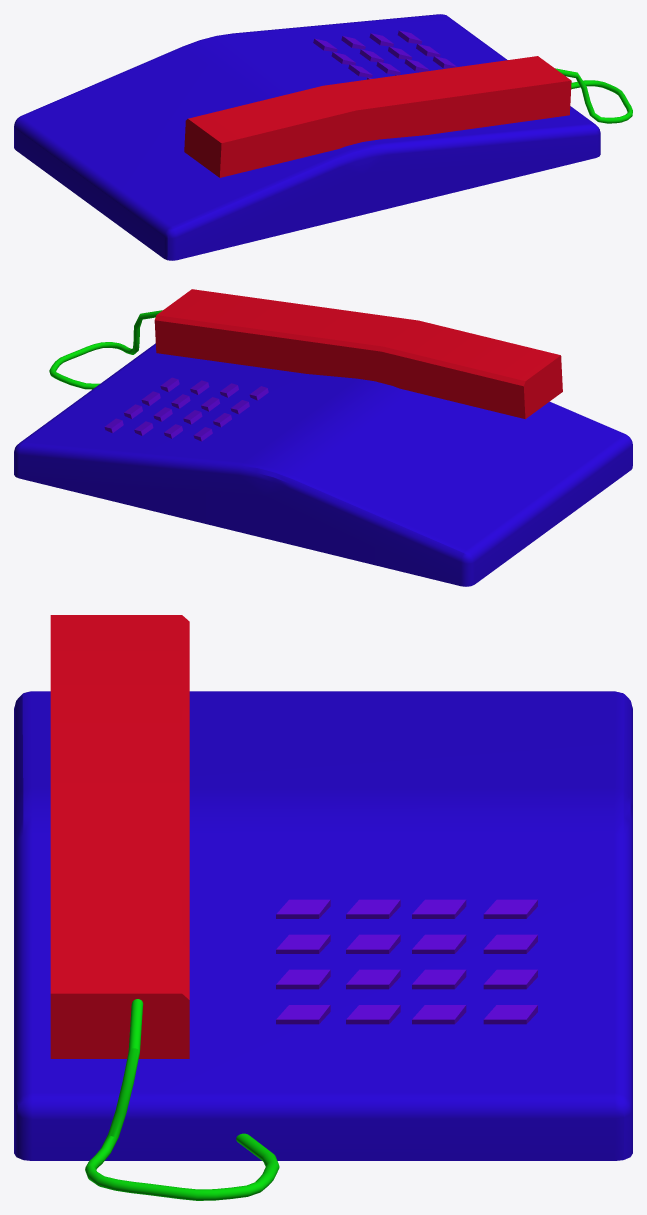
Rendered from SM_telephone.fbx.
3 views of the same model, one above another, from view 1: azimuth 30°, elevation 25°; view 2: azimuth 150°, elevation 25°; view 3: azimuth 270°, elevation 25° (orthographic). The views are drawn at different scales.
Parts seen in each view (by area): view 1: polySurface7; view 2: polySurface7; view 3: polySurface7.
Part boxes in pixels (x1,y1,x2,y2): polySurface7: [14, 14, 632, 260]; polySurface7: [14, 289, 632, 586]; polySurface7: [14, 615, 632, 1200].
Bounding box in the file's own units: 24.02 × 4.44 × 13.14.
